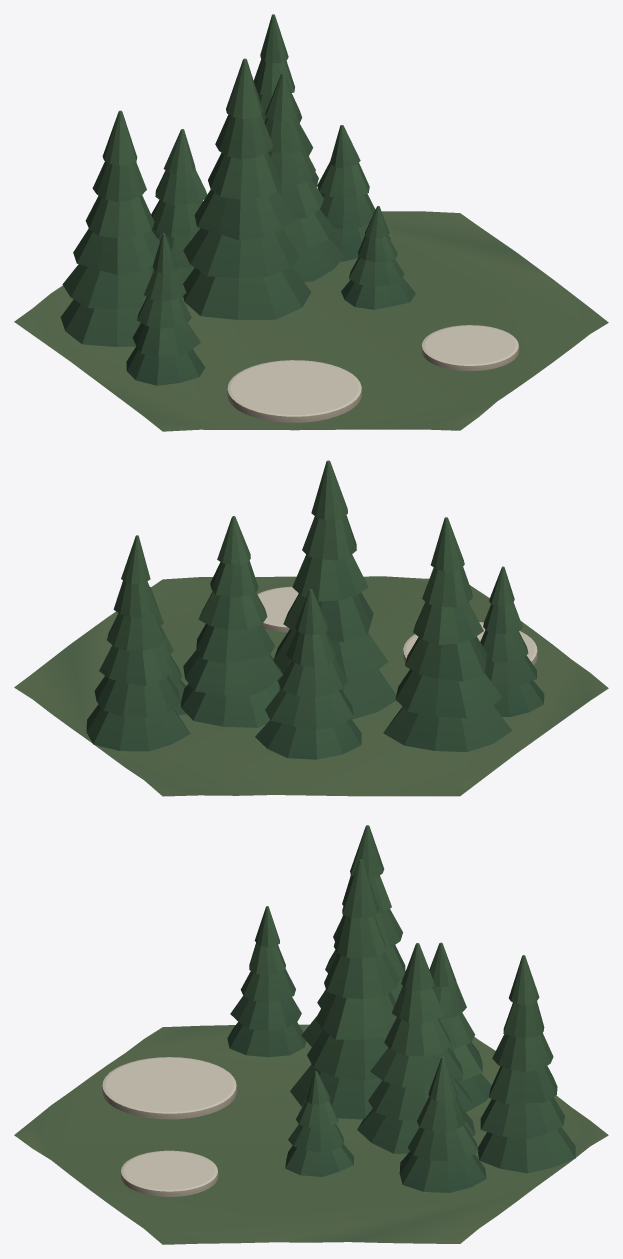
File: terrain_forest.glb
3 views of the same model, one above another, from view 1: azimuth 30°, elevation 25°; view 2: azimuth 150°, elevation 25°; view 3: azimuth 270°, elevation 25° (orthographic).
Parts seen in each view (by area): view 1: forest_ground, pine_i06, pine_i14, pine_i05, pad_token_forest, pine_i02, pine_i03, pine_i10, pine_i01, pad_robber_forest, pine_i09; view 2: forest_ground, pine_i14, pine_i05, pine_i06, pine_i09, pine_i10, pine_i02, pad_robber_forest, pine_i03, pad_token_forest; view 3: forest_ground, pine_i06, pine_i09, pine_i05, pad_token_forest, pine_i02, pine_i03, pine_i01, pine_i10, pad_robber_forest, pine_i14.
Part boxes in pixels (x1,y1,x2,y2): forest_ground: [14, 211, 608, 431]; pine_i06: [183, 58, 311, 319]; pine_i14: [60, 110, 159, 346]; pine_i05: [264, 73, 345, 282]; pad_token_forest: [227, 360, 362, 430]; pine_i02: [126, 233, 204, 385]; pine_i03: [317, 125, 390, 261]; pine_i10: [151, 129, 207, 297]; pine_i01: [341, 206, 415, 309]; pad_robber_forest: [421, 325, 519, 370]; pine_i09: [253, 14, 318, 186]; forest_ground: [14, 576, 608, 796]; pine_i14: [383, 517, 512, 752]; pine_i05: [180, 516, 282, 727]; pine_i06: [273, 460, 396, 719]; pine_i09: [86, 535, 190, 751]; pine_i10: [255, 589, 361, 759]; pine_i02: [480, 566, 544, 716]; pad_robber_forest: [257, 586, 298, 632]; pine_i03: [150, 587, 185, 715]; pad_token_forest: [402, 622, 537, 665]; forest_ground: [14, 1024, 608, 1244]; pine_i06: [290, 859, 399, 1119]; pine_i09: [478, 955, 575, 1173]; pine_i05: [357, 943, 475, 1153]; pad_token_forest: [102, 1057, 236, 1119]; pine_i02: [227, 906, 306, 1057]; pine_i03: [399, 1056, 486, 1192]; pine_i01: [285, 1071, 353, 1176]; pine_i10: [429, 942, 491, 1111]; pad_robber_forest: [120, 1150, 218, 1196]; pine_i14: [301, 825, 405, 1046].
Bounding box in the file's own units: 1.52 × 0.8516 × 1.76.
